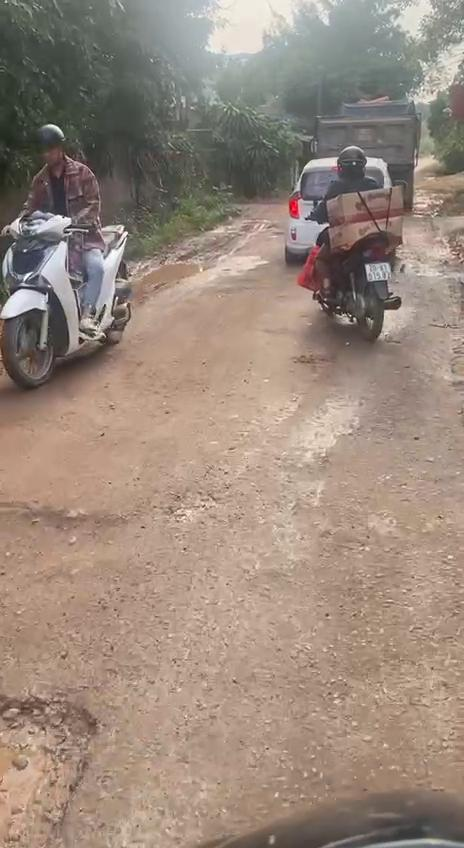pothole: (0, 500, 200, 595), (0, 689, 112, 848)
